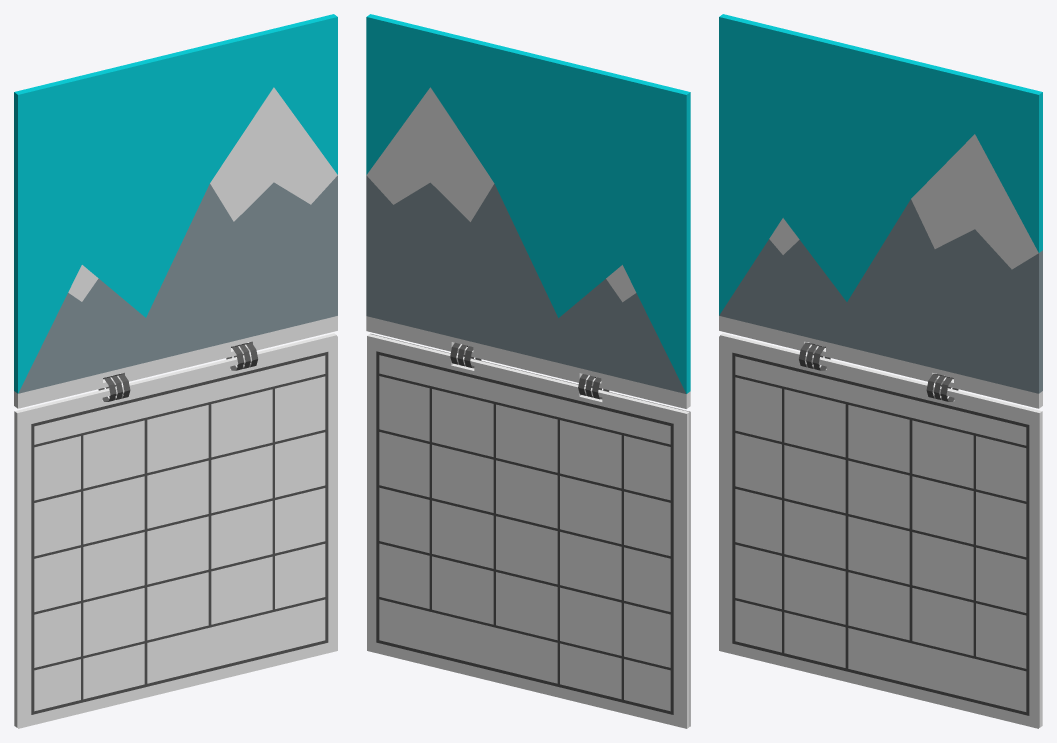
Rendered from Calender.glb.
The picture shows the model from 3 angles, left to right: view 1: azimuth 30°, elevation 25°; view 2: azimuth 150°, elevation 25°; view 3: azimuth 330°, elevation 25°; orthographic projection.
Parts seen in each view (by area): view 1: node-0; view 2: node-0; view 3: node-0.
Boxes of the visible parts, <box> form: node-0: <box>14,14,337,728</box>; node-0: <box>366,14,690,728</box>; node-0: <box>719,14,1042,728</box>.
Size of the model in its own units: 10 by 18.94 by 0.6918.
